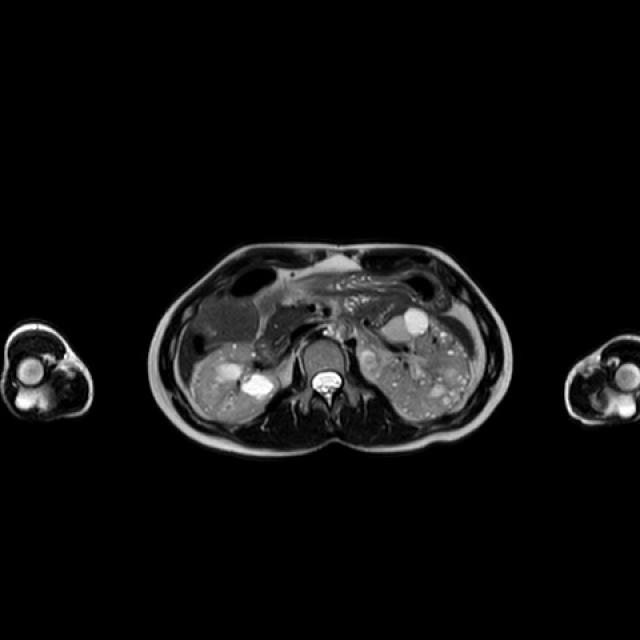sag: (190, 342, 278, 424)
sol: (358, 307, 471, 419)
